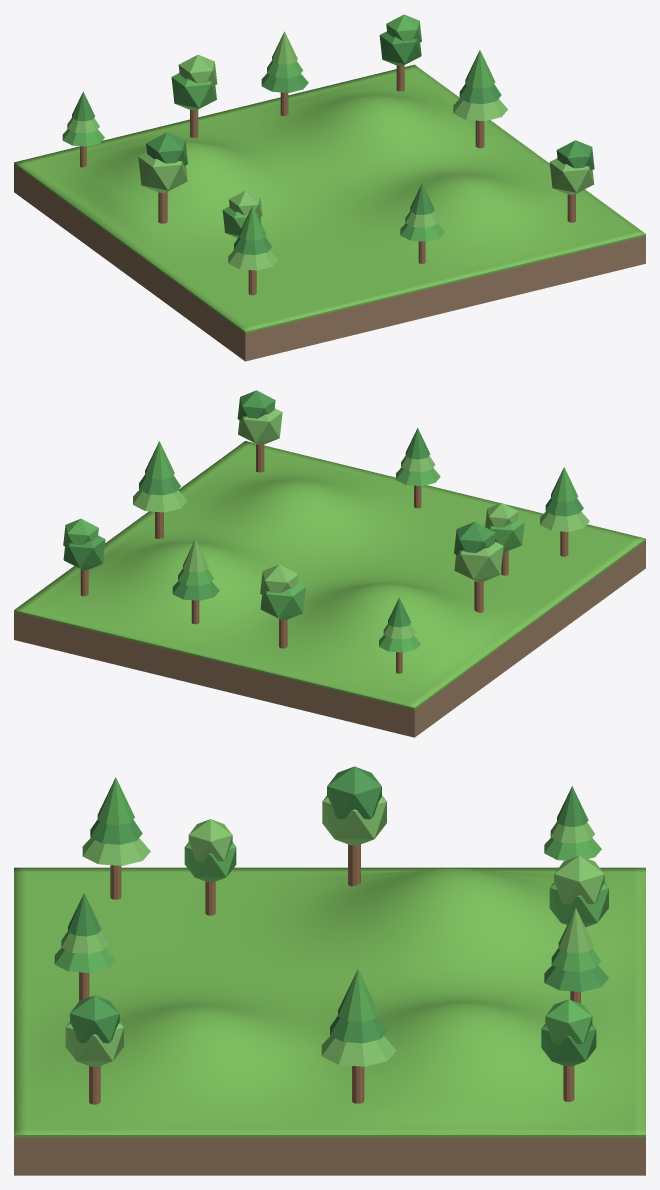
File: escenario_pasto_arboles_montanitas.glb
3 renders of one model, top to bottom at view 1: azimuth 30°, elevation 25°; view 2: azimuth 150°, elevation 25°; view 3: azimuth 270°, elevation 25°, orthographic. The views are drawn at different scales.
Parts seen in each view (by area): view 1: Césped con tres montañitas suaves, Plataforma base de tierra, Arbol 02 - copa baja, Arbol 04 - copa baja, Arbol 08 - copa baja, Arbol 06 - copa baja, Arbol 02 - copa alta, Arbol 07 - pino capa 1, Arbol 04 - copa alta, Arbol 08 - copa alta, Arbol 01 - pino capa 1, Arbol 06 - copa alta (+10 smaller); view 2: Césped con tres montañitas suaves, Plataforma base de tierra, Arbol 02 - copa baja, Arbol 04 - copa baja, Arbol 08 - copa baja, Arbol 06 - copa baja, Arbol 02 - copa alta, Arbol 07 - pino capa 1, Arbol 04 - copa alta, Arbol 08 - copa alta, Arbol 01 - pino capa 1, Arbol 06 - copa alta (+10 smaller); view 3: Césped con tres montañitas suaves, Plataforma base de tierra, Arbol 02 - copa alta, Arbol 04 - copa alta, Arbol 02 - copa baja, Arbol 08 - copa alta, Arbol 07 - pino capa 1, Arbol 06 - copa alta, Arbol 08 - copa baja, Arbol 10 - copa alta, Arbol 04 - copa baja, Arbol 01 - pino capa 1 (+15 smaller).
Boxes of the visible parts, bbox=[...] form: Césped con tres montañitas suaves: bbox=[14, 64, 645, 333]; Plataforma base de tierra: bbox=[14, 164, 645, 361]; Arbol 02 - copa baja: bbox=[138, 152, 187, 193]; Arbol 04 - copa baja: bbox=[171, 73, 216, 110]; Arbol 08 - copa baja: bbox=[549, 158, 594, 195]; Arbol 06 - copa baja: bbox=[379, 31, 421, 66]; Arbol 02 - copa alta: bbox=[146, 132, 187, 165]; Arbol 07 - pino capa 1: bbox=[453, 98, 507, 121]; Arbol 04 - copa alta: bbox=[178, 54, 217, 85]; Arbol 08 - copa alta: bbox=[556, 140, 594, 170]; Arbol 01 - pino capa 1: bbox=[228, 250, 277, 270]; Arbol 06 - copa alta: bbox=[386, 14, 421, 42]; Césped con tres montañitas suaves: bbox=[14, 441, 645, 709]; Plataforma base de tierra: bbox=[14, 540, 645, 737]; Arbol 02 - copa baja: bbox=[454, 541, 503, 582]; Arbol 04 - copa baja: bbox=[260, 582, 305, 620]; Arbol 08 - copa baja: bbox=[238, 408, 282, 445]; Arbol 06 - copa baja: bbox=[63, 535, 105, 570]; Arbol 02 - copa alta: bbox=[454, 522, 495, 555]; Arbol 07 - pino capa 1: bbox=[133, 490, 187, 512]; Arbol 04 - copa alta: bbox=[260, 564, 298, 595]; Arbol 08 - copa alta: bbox=[237, 390, 275, 420]; Arbol 01 - pino capa 1: bbox=[540, 511, 589, 531]; Arbol 06 - copa alta: bbox=[63, 518, 98, 547]; Césped con tres montañitas suaves: bbox=[14, 867, 645, 1137]; Plataforma base de tierra: bbox=[14, 1137, 645, 1175]; Arbol 02 - copa alta: bbox=[327, 766, 381, 819]; Arbol 04 - copa alta: bbox=[554, 855, 604, 904]; Arbol 02 - copa baja: bbox=[322, 795, 386, 845]; Arbol 08 - copa alta: bbox=[70, 995, 119, 1043]; Arbol 07 - pino capa 1: bbox=[321, 1035, 396, 1066]; Arbol 06 - copa alta: bbox=[545, 999, 592, 1044]; Arbol 08 - copa baja: bbox=[65, 1021, 123, 1066]; Arbol 10 - copa alta: bbox=[188, 819, 232, 861]; Arbol 04 - copa baja: bbox=[549, 882, 608, 927]; Arbol 01 - pino capa 1: bbox=[82, 838, 150, 865].
Size of the model in its own units: 18 by 5.66 by 18.
